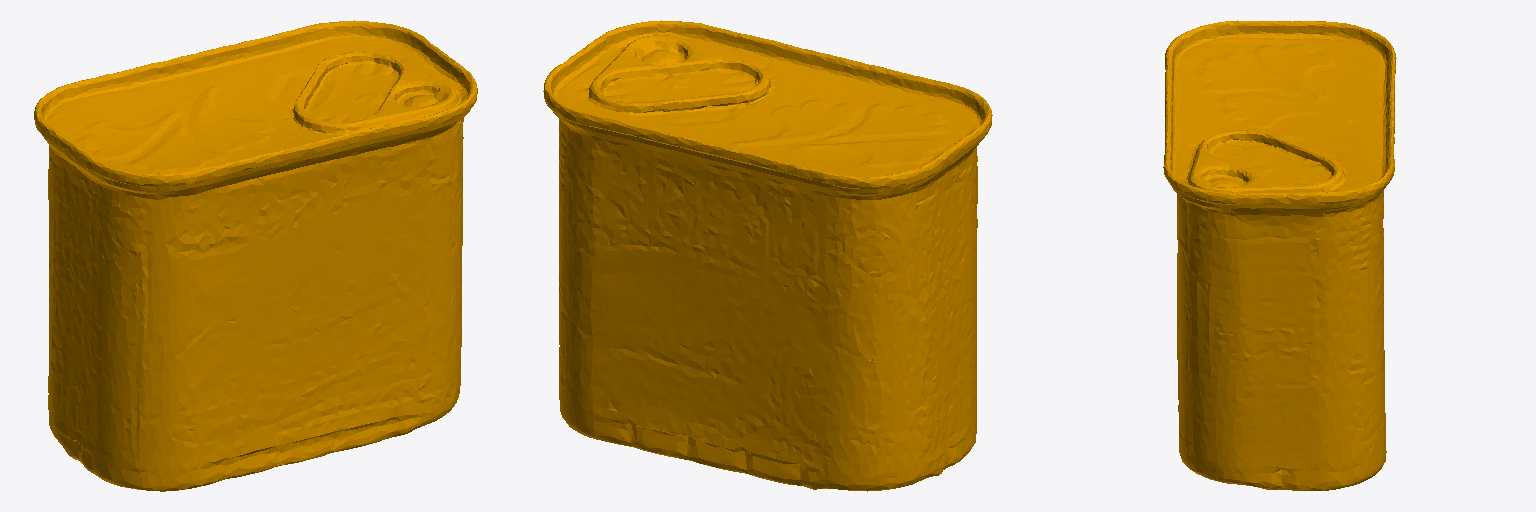
The robot description file, URDF, robot "root":
<robot name="root">
  <link name="link_original">
    <visual>
      <origin xyz="0 0 0" rpy="0 0 0"/>
      <geometry>
        <mesh filename="textured.obj" scale="1.0000E+00 1.0000E+00 1.0000E+00"/>
      </geometry>
    </visual>
    <inertial>
      <origin xyz="0 0 0" rpy="0 0 0"/>
      <mass value="3.5413E-01"/>
      <inertia ixx="2.49E-04" ixy="-4.62E-07" ixz="-4.91E-07" iyy="4.29E-04" iyz="1.14E-06" izz="3.23E-04"/>
    </inertial>
    <collision>
      <origin xyz="0 0 0" rpy="0 0 0"/>
      <geometry>
        <mesh filename="coacd_allinone.obj" scale="1.0000E+00 1.0000E+00 1.0000E+00"/>
      </geometry>
    </collision>
  </link>
</robot>

--- Facts derived from the render (not from the file) ---
Views: 3 orthographic renders of the robot side by side, from view 1: azimuth 30°, elevation 25°; view 2: azimuth 150°, elevation 25°; view 3: azimuth 270°, elevation 25°.
Model root with 1 links and 0 joints (none), rooted at link_original, posed every joint at zero.
Links seen in each view (by area): view 1: link_original; view 2: link_original; view 3: link_original.
Link boxes in pixels (x1,y1,x2,y2): link_original: (34, 20, 477, 491); link_original: (543, 20, 992, 491); link_original: (1163, 20, 1396, 490).
Size in the robot's own frame: 0.1016 by 0.0576 by 0.0835 metres.
Meshes: 1 distinct files referenced, 1 mesh visuals loaded (1 OBJ).
